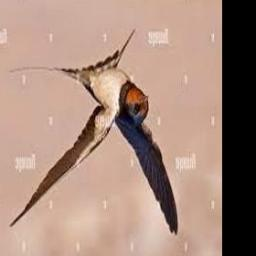Swallow: (9, 29, 178, 236)
